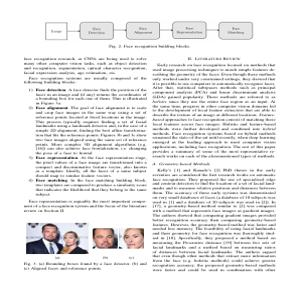diagram: (39, 14, 275, 44)
image: (19, 220, 148, 255)
text: (151, 56, 278, 275), (21, 56, 149, 217)
